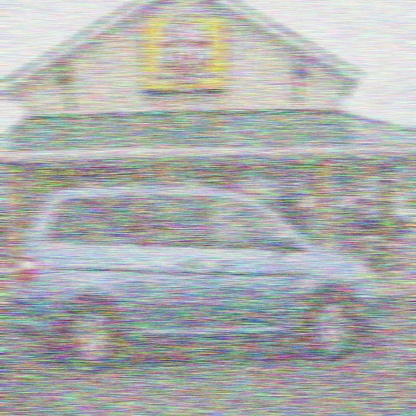Vehicle: (12, 186, 381, 376)
